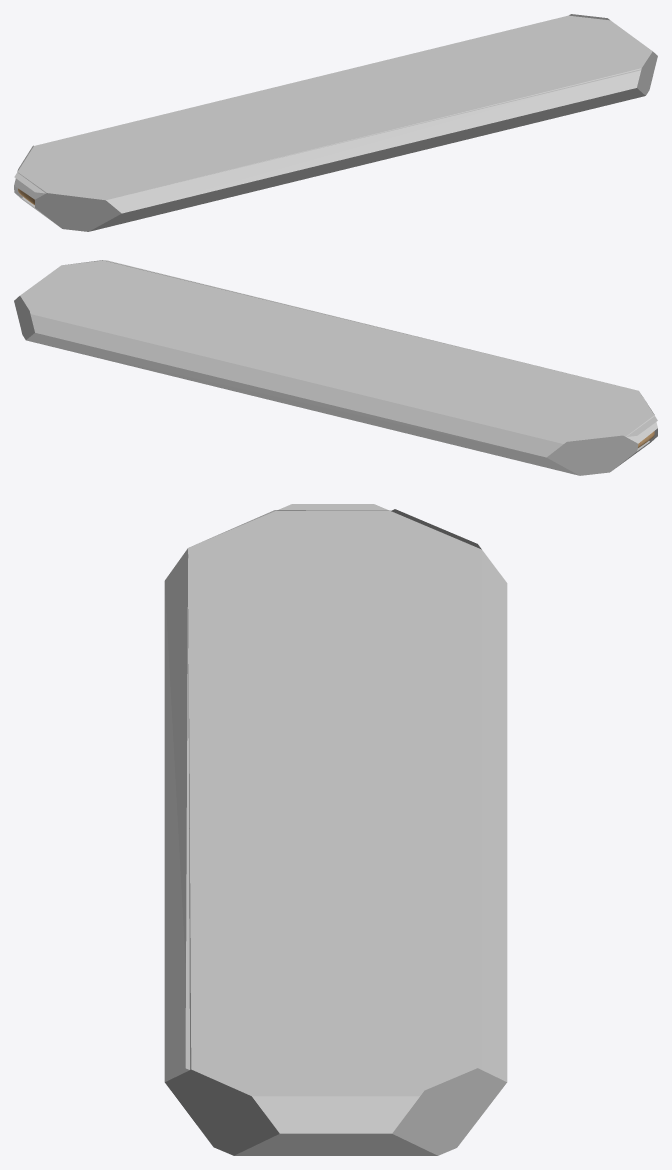
The model's file is SM_Wooden_Spoon_01.fbx.
The picture shows the model from 3 angles, top to bottom: view 1: azimuth 30°, elevation 25°; view 2: azimuth 150°, elevation 25°; view 3: azimuth 270°, elevation 25°; orthographic projection. The views are drawn at different scales.
Visible parts, largest first — view 1: SM_Wooden_Spoon_01_ConvexHulls; view 2: SM_Wooden_Spoon_01_ConvexHulls; view 3: SM_Wooden_Spoon_01_ConvexHulls.
Part boxes in pixels (box(x1,y1,x2,y2)): SM_Wooden_Spoon_01_ConvexHulls: box(14, 14, 657, 231); SM_Wooden_Spoon_01_ConvexHulls: box(14, 260, 657, 475); SM_Wooden_Spoon_01_ConvexHulls: box(164, 504, 507, 1155).
Bounding box in the file's own units: 30.28 × 7.25 × 1.66.
